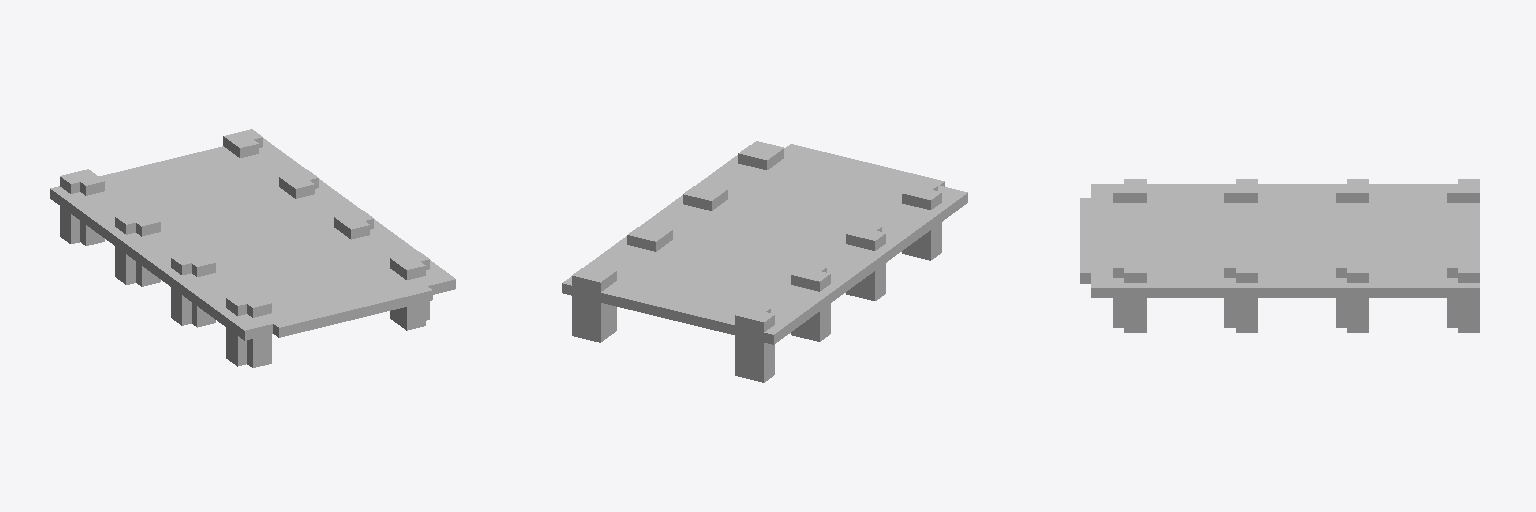
The model's file is dock.obj.
3 renders of one model, left to right at view 1: azimuth 30°, elevation 25°; view 2: azimuth 150°, elevation 25°; view 3: azimuth 270°, elevation 25°, orthographic.
Parts seen in each view (by area): view 1: object 1; view 2: object 1; view 3: object 1.
Part boxes in pixels (bbox=[...]): object 1: bbox=[50, 129, 455, 367]; object 1: bbox=[562, 141, 967, 382]; object 1: bbox=[1080, 179, 1479, 332].
Bounding box in the file's own units: 2.2 × 0.6 × 3.6.